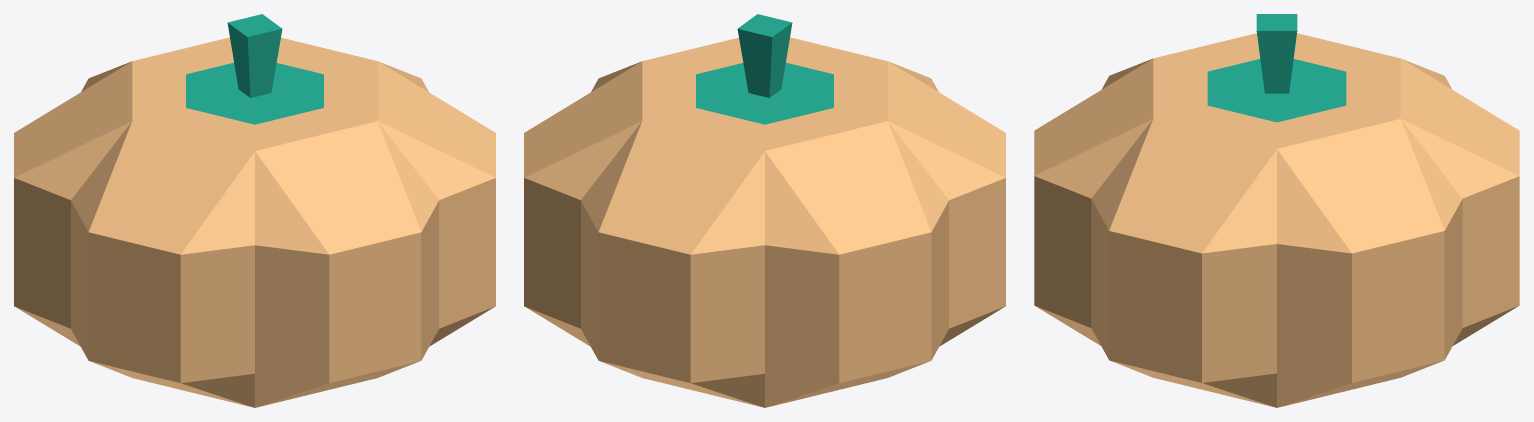
Rendered from crop_pumpkin.glb.
3 renders of one model, left to right at view 1: azimuth 30°, elevation 25°; view 2: azimuth 150°, elevation 25°; view 3: azimuth 270°, elevation 25°, orthographic.
Parts seen in each view (by area): view 1: crop_pumpkin; view 2: crop_pumpkin; view 3: crop_pumpkin.
Boxes of the visible parts, box(x1,y1,x2,y2) form: crop_pumpkin: box(14, 14, 495, 407); crop_pumpkin: box(524, 14, 1005, 407); crop_pumpkin: box(1034, 14, 1519, 407).
Size of the model in its own units: 0.5295 by 0.4006 by 0.5423.
